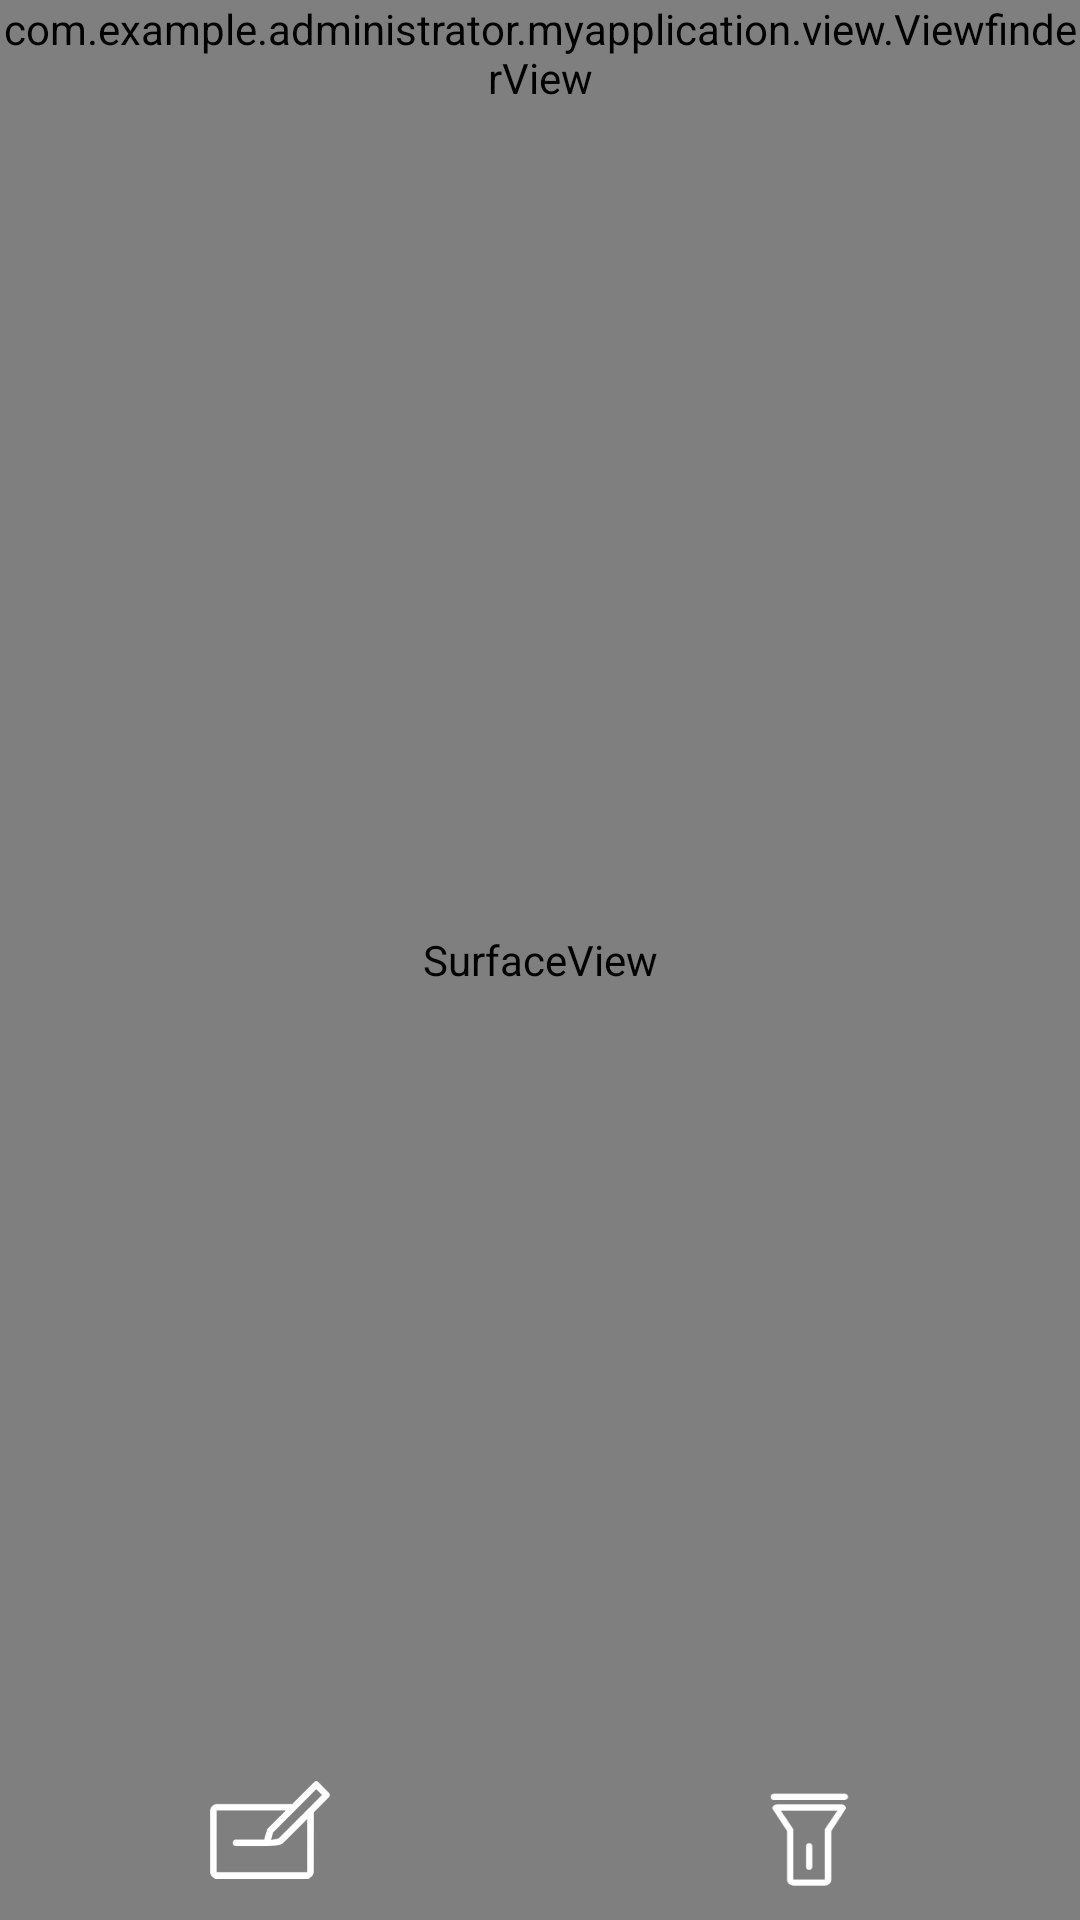

Point at icon controls on the screen. Image size 1080w x 1920h, points as [x,y].
flashligth close: [809,1839]
write: [270,1830]
